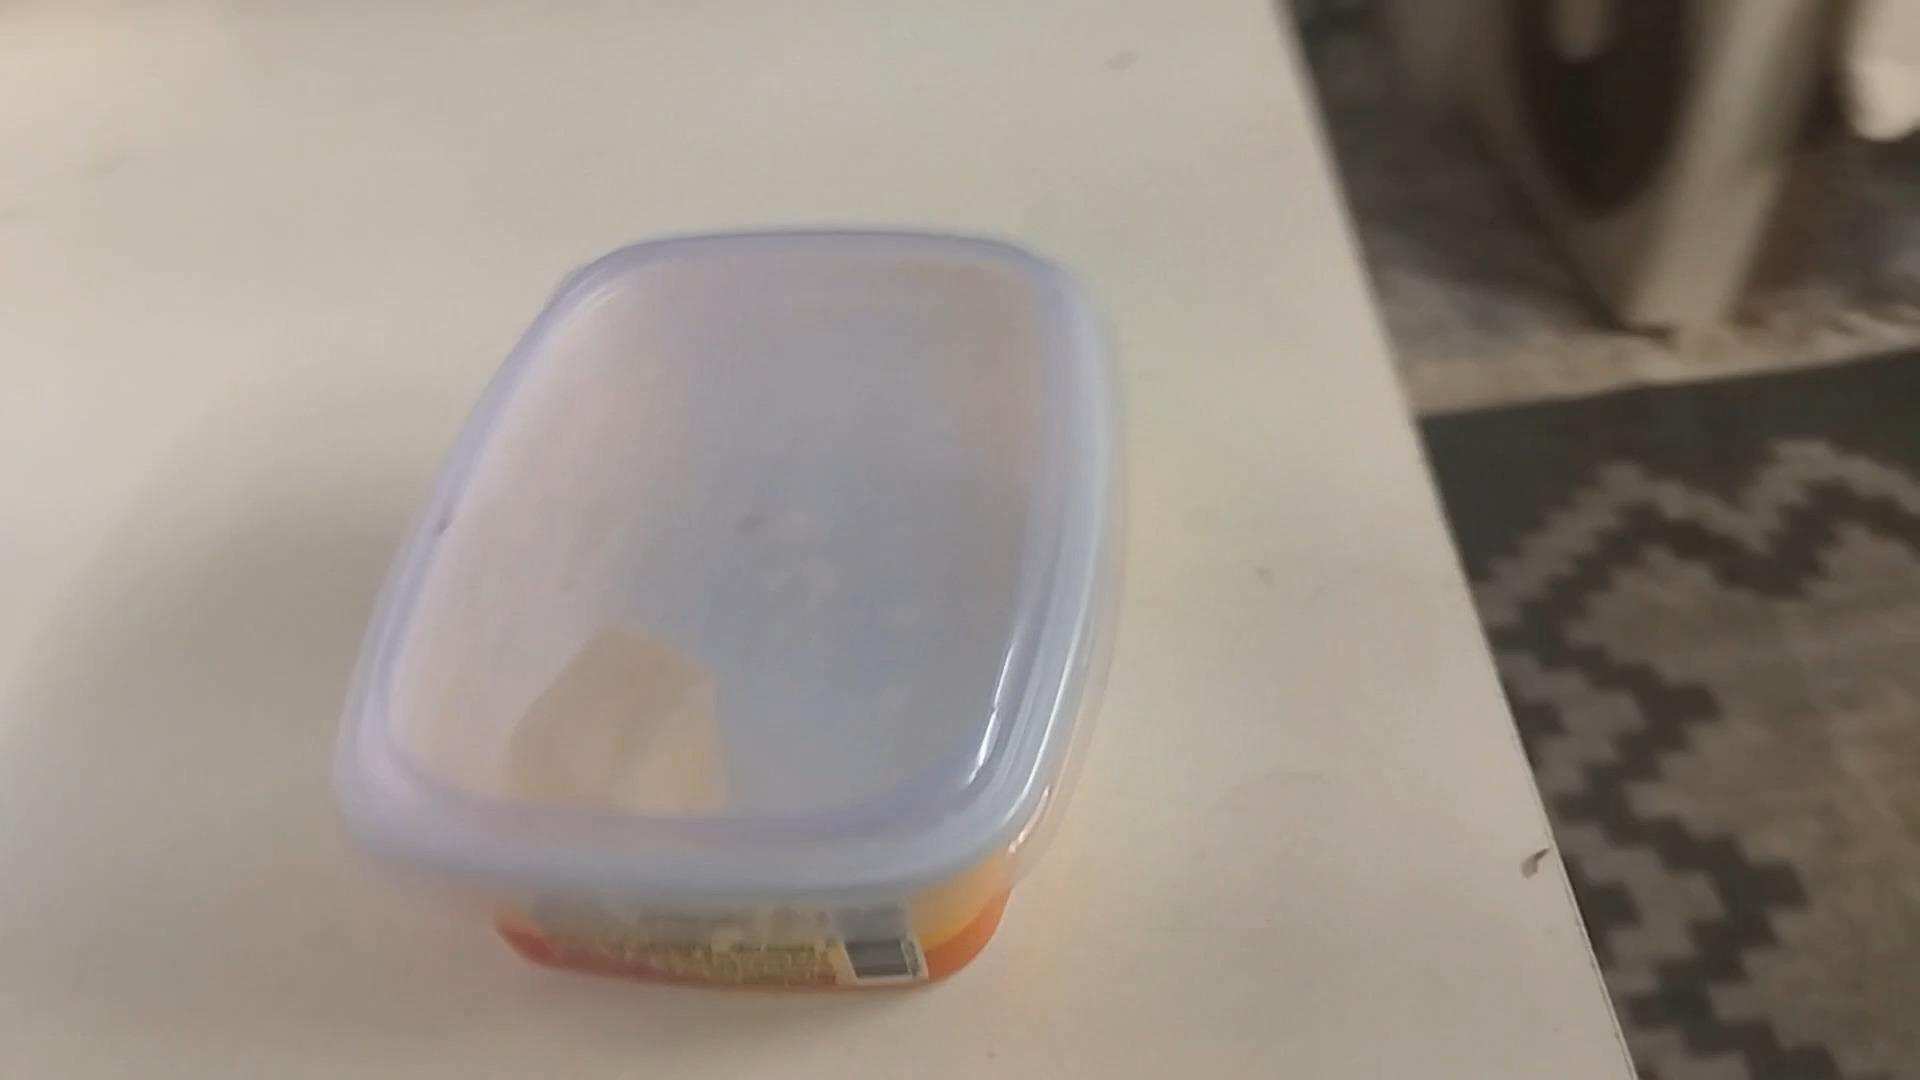butter: (330, 224, 1110, 989)
